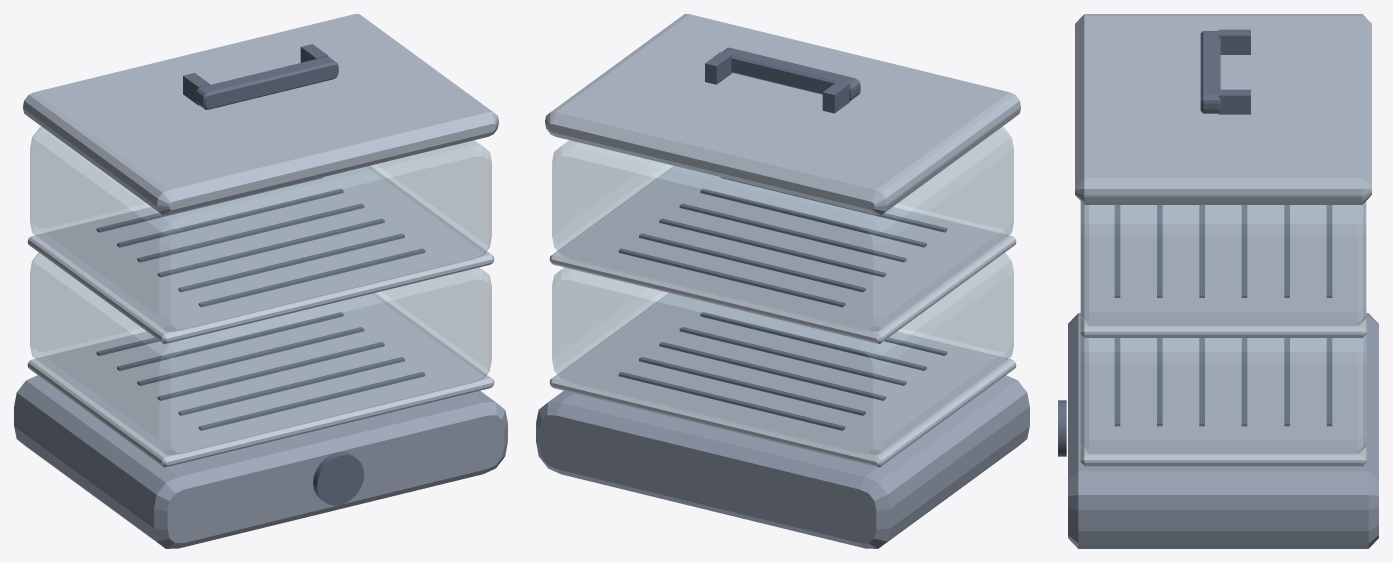
File: food-steamer-lite.glb
The picture shows the model from 3 angles, left to right: view 1: azimuth 30°, elevation 25°; view 2: azimuth 150°, elevation 25°; view 3: azimuth 270°, elevation 25°; orthographic projection. The views are drawn at different scales.
Visible parts, largest first — view 1: glass, light, soft, body, dark; view 2: glass, light, soft, body, dark; view 3: light, glass, soft, body, dark.
Boxes of the visible parts, left/top/right/bottom form: glass: left=30, top=126, right=491, bottom=454; light: left=27, top=166, right=494, bottom=467; soft: left=23, top=14, right=498, bottom=215; body: left=14, top=375, right=507, bottom=548; dark: left=96, top=44, right=425, bottom=505; glass: left=552, top=126, right=1013, bottom=454; light: left=549, top=166, right=1016, bottom=467; soft: left=545, top=14, right=1020, bottom=215; body: left=536, top=375, right=1029, bottom=548; dark: left=618, top=47, right=947, bottom=430; light: left=1080, top=201, right=1366, bottom=466; glass: left=1080, top=201, right=1366, bottom=453; soft: left=1075, top=14, right=1371, bottom=204; body: left=1068, top=313, right=1378, bottom=548; dark: left=1058, top=29, right=1332, bottom=456.
Size of the model in its own units: 0.3 by 0.3165 by 0.227.
